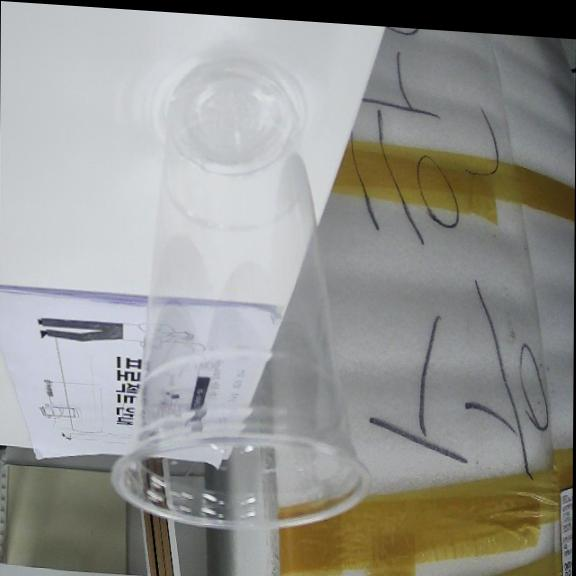Plastik: (111, 64, 369, 528)
